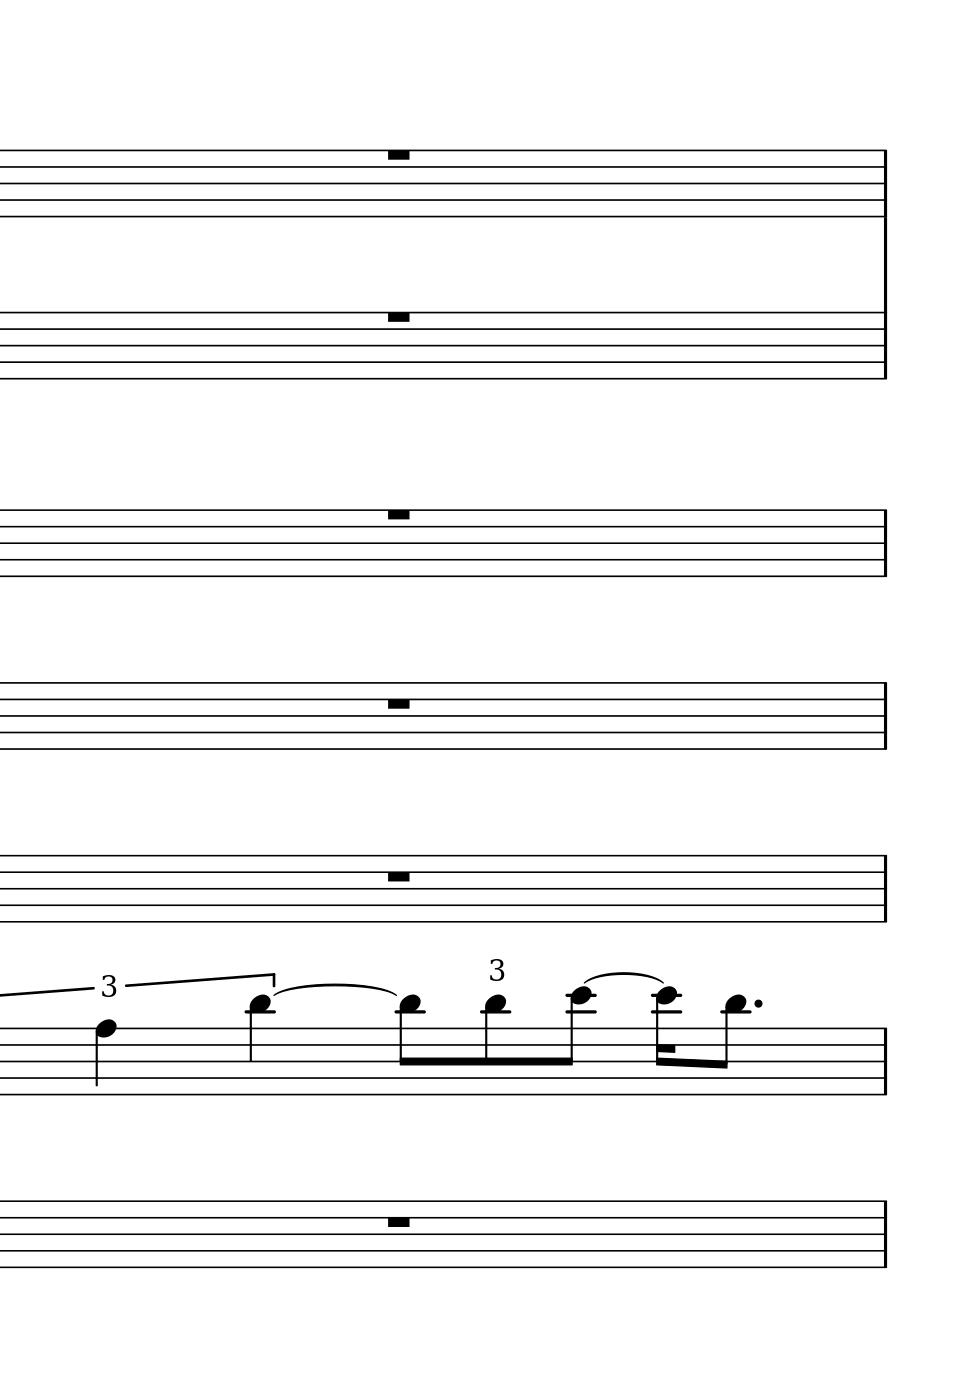16_12: (652, 986, 680, 1096)
3: (100, 973, 117, 1001), (488, 957, 505, 983)
4_11: (246, 992, 273, 1098)
4_8: (93, 1019, 117, 1098)
8_11: (710, 993, 748, 1098), (396, 993, 424, 1099), (482, 994, 508, 1099)
8_12: (555, 985, 596, 1098)
Rests1: (382, 503, 415, 525), (382, 306, 415, 327), (383, 144, 414, 165), (382, 1213, 415, 1231), (383, 694, 414, 713), (382, 867, 414, 885)
Single_barline: (876, 855, 894, 922), (876, 1028, 894, 1094), (876, 683, 894, 749), (876, 510, 893, 577), (876, 1201, 893, 1268), (877, 150, 893, 217), (876, 312, 892, 379)
Slur: (275, 983, 398, 999), (579, 971, 669, 987)
dot: (750, 997, 765, 1012)
